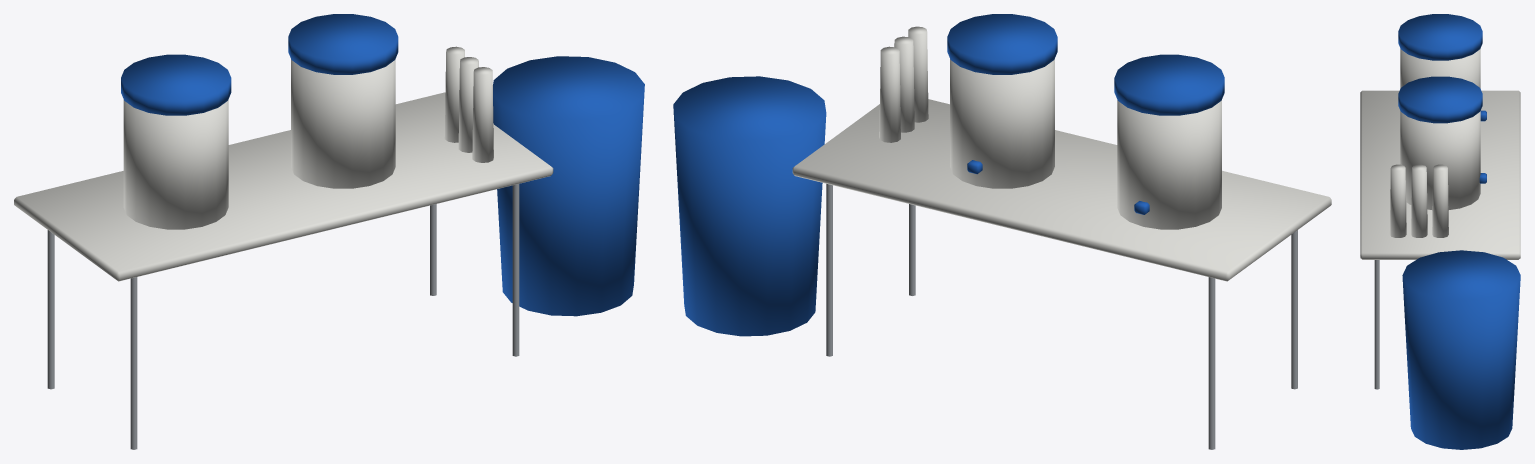
Rendered from cooler_station.glb.
The picture shows the model from 3 angles, left to right: view 1: azimuth 30°, elevation 25°; view 2: azimuth 150°, elevation 25°; view 3: azimuth 270°, elevation 25°; orthographic projection. The views are drawn at different scales.
Visible parts, largest first — view 1: cooler_station__prop_white, cooler_station__prop_blue, cooler_station__prop_steel; view 2: cooler_station__prop_white, cooler_station__prop_blue, cooler_station__prop_steel; view 3: cooler_station__prop_blue, cooler_station__prop_white, cooler_station__prop_steel.
Part boxes in pixels (bbox=[...]): cooler_station__prop_white: bbox=[14, 46, 553, 281]; cooler_station__prop_blue: bbox=[121, 14, 644, 316]; cooler_station__prop_steel: bbox=[47, 184, 519, 449]; cooler_station__prop_white: bbox=[792, 26, 1331, 281]; cooler_station__prop_blue: bbox=[673, 14, 1224, 336]; cooler_station__prop_steel: bbox=[826, 184, 1297, 449]; cooler_station__prop_blue: bbox=[1398, 14, 1520, 449]; cooler_station__prop_white: bbox=[1360, 49, 1520, 259]; cooler_station__prop_steel: bbox=[1374, 260, 1379, 389].
Bounding box in the file's own units: 2.44 × 1.28 × 0.76.
